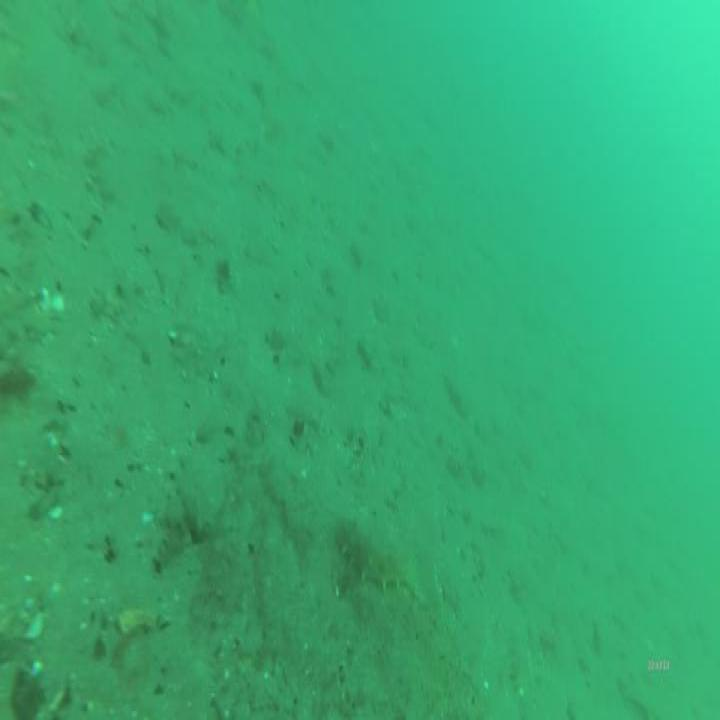holothurian: (335, 510, 410, 596)
